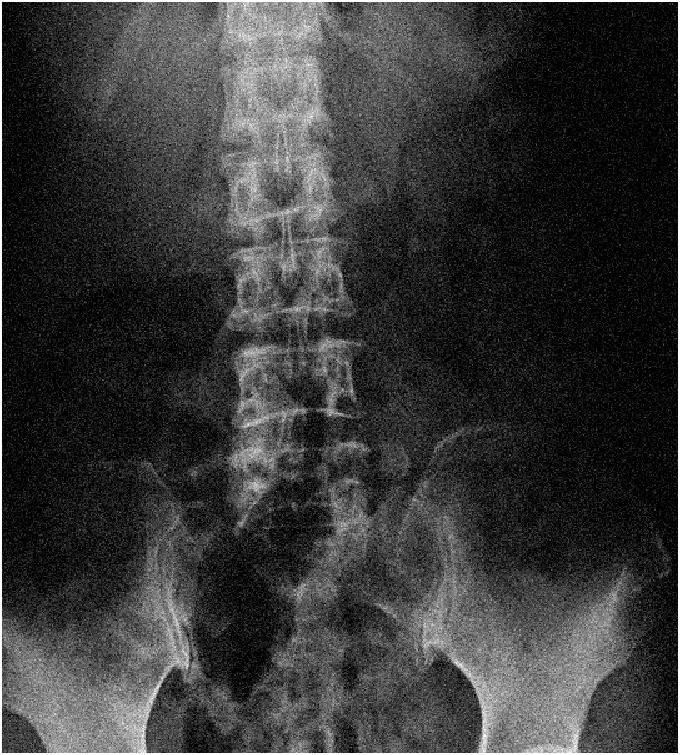lumbar scoliosis: (213, 111, 364, 565)
